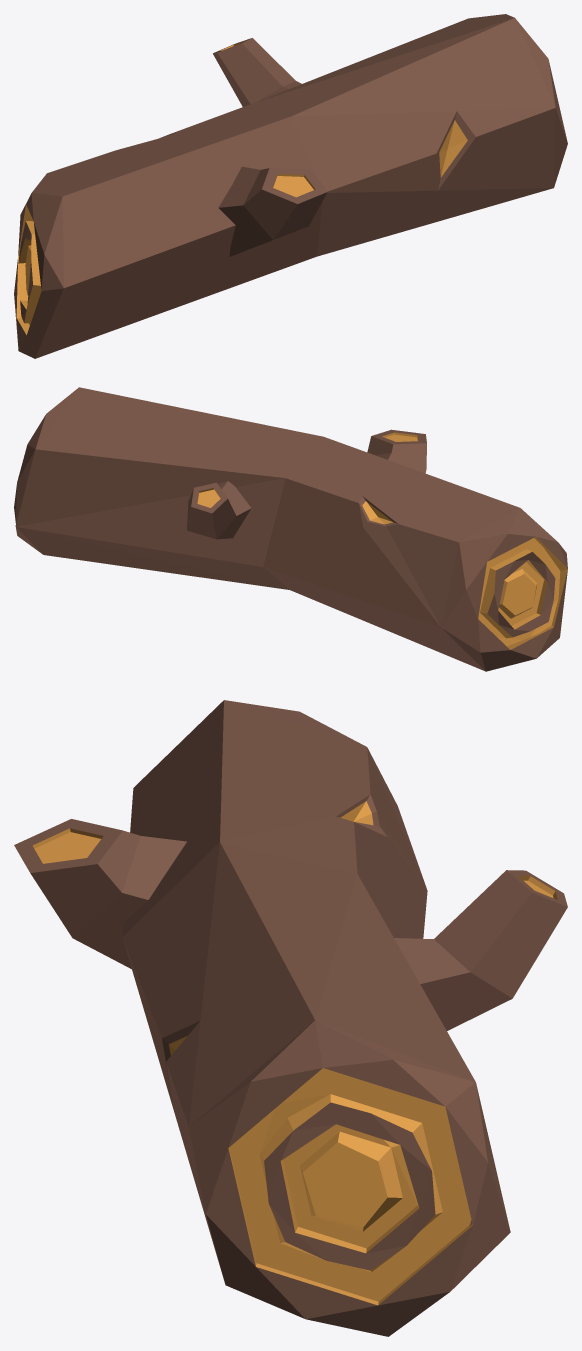
Rendered from chopped-log.glb.
3 renders of one model, top to bottom at view 1: azimuth 30°, elevation 25°; view 2: azimuth 150°, elevation 25°; view 3: azimuth 270°, elevation 25°, orthographic. The views are drawn at different scales.
Parts seen in each view (by area): view 1: group1305922676; view 2: group1305922676; view 3: group1305922676.
Part boxes in pixels (x1=…): group1305922676: x1=14, y1=14, x2=567, y2=358; group1305922676: x1=14, y1=387, x2=567, y2=671; group1305922676: x1=14, y1=700, x2=567, y2=1336.
Bounding box in the file's own units: 2.68 × 0.9669 × 1.41.
